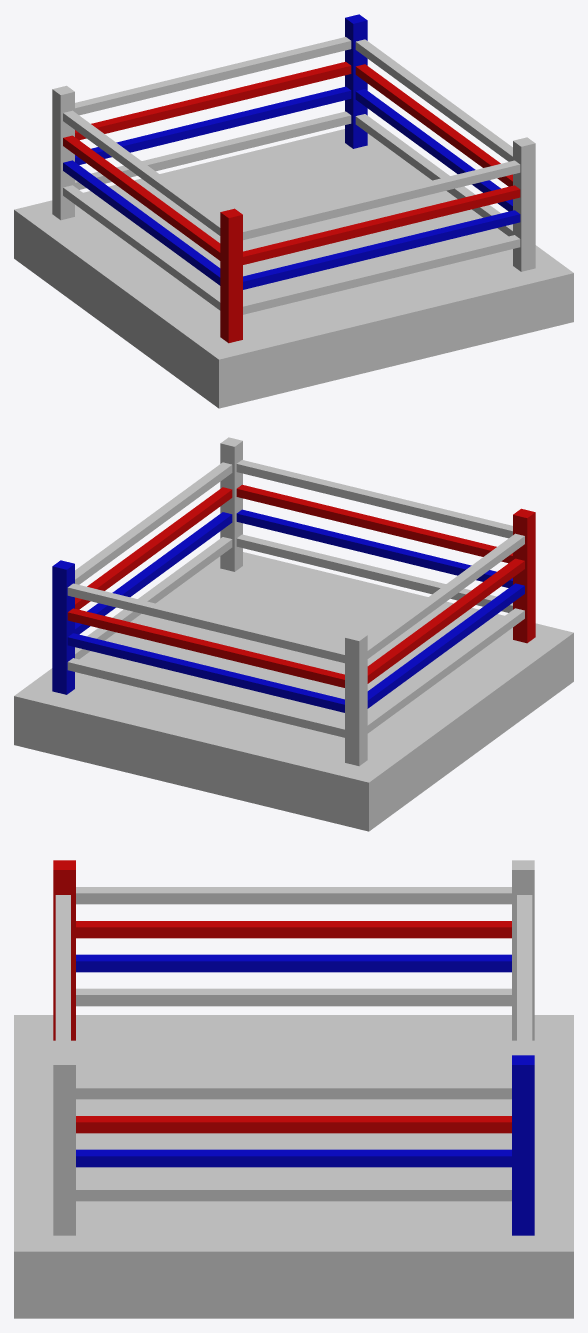
Rendered from uploads_files_928439_bxgrglwp1.fbx.
The picture shows the model from 3 angles, top to bottom: view 1: azimuth 30°, elevation 25°; view 2: azimuth 150°, elevation 25°; view 3: azimuth 270°, elevation 25°; orthographic projection. The views are drawn at different scales.
Parts seen in each view (by area): view 1: Cube.010, Cube.011, Cube.019, Cube.018, Cube.017, Cube.016, Cube.012, Cube.013, Cube.014, Cube.015; view 2: Cube.010, Cube.011, Cube.019, Cube.018, Cube.017, Cube.016, Cube.012, Cube.013, Cube.014, Cube.015; view 3: Cube.010, Cube.015, Cube.014, Cube.013, Cube.012, Cube.011, Cube.019.
Part boxes in pixels (x1,y1,x2,y2): Cube.010: (14,129,573,408); Cube.011: (52,14,535,343); Cube.019: (75,37,520,240); Cube.018: (75,61,520,264); Cube.017: (75,86,520,289); Cube.016: (75,111,520,314); Cube.012: (63,39,512,235); Cube.013: (63,64,512,260); Cube.014: (63,89,512,285); Cube.015: (63,114,512,310); Cube.010: (14,552,573,831); Cube.011: (52,437,535,766); Cube.019: (67,460,512,663); Cube.018: (67,484,512,687); Cube.017: (67,509,512,712); Cube.016: (67,534,512,737); Cube.012: (75,462,524,658); Cube.013: (75,487,524,683); Cube.014: (75,512,524,708); Cube.015: (75,537,524,733); Cube.010: (14,1015,573,1318); Cube.015: (76,988,511,1201); Cube.014: (76,954,511,1167); Cube.013: (76,921,511,1133); Cube.012: (76,887,511,1099); Cube.011: (53,860,534,1235); Cube.019: (55,895,532,1055).
Bounding box in the file's own units: 25.23 × 11.82 × 25.23.
